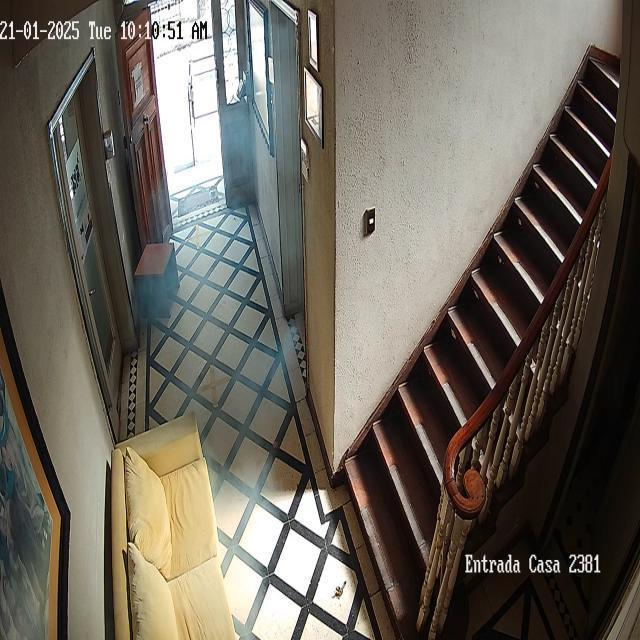fire: (128, 11, 303, 640)
